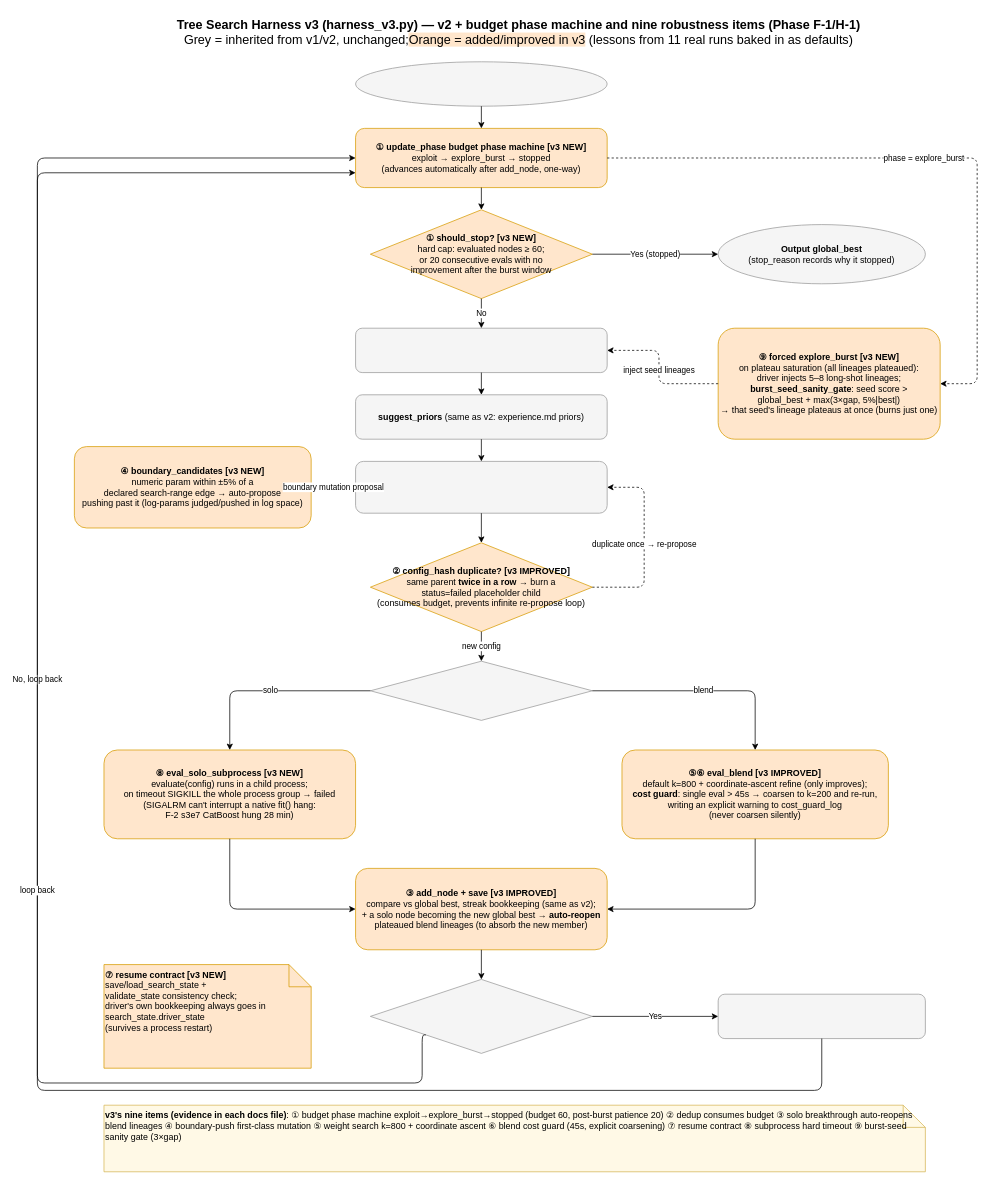
Image size: 996x1185. Some labels were removed from this diagram. Here are the shapes that lost their labels. From the top down, the centre of each, then its label:
At pixel 481 83: "driver seeds the first generation of lineages (same as v1)".
At pixel 481 350: "select_next_parent (same as v1)".
At pixel 481 487: "propose a mutation (seed / params / blend / boundary-push)".
At pixel 481 690: "node kind? (same as v2)".
At pixel 481 1016: "streak ≥ threshold? (same as v2: 3; discretized 5, tie neutral)".
At pixel 821 1016: "mark lineage plateaued (backtrack) (same as v1)".
